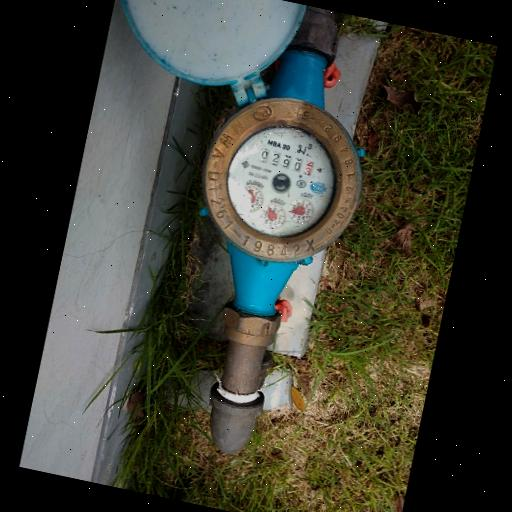0: (259, 148, 270, 163), (292, 157, 303, 172)
2: (269, 151, 281, 167), (303, 160, 315, 176)
9: (281, 153, 293, 169)
border_water_meter_number: (257, 147, 318, 177)
